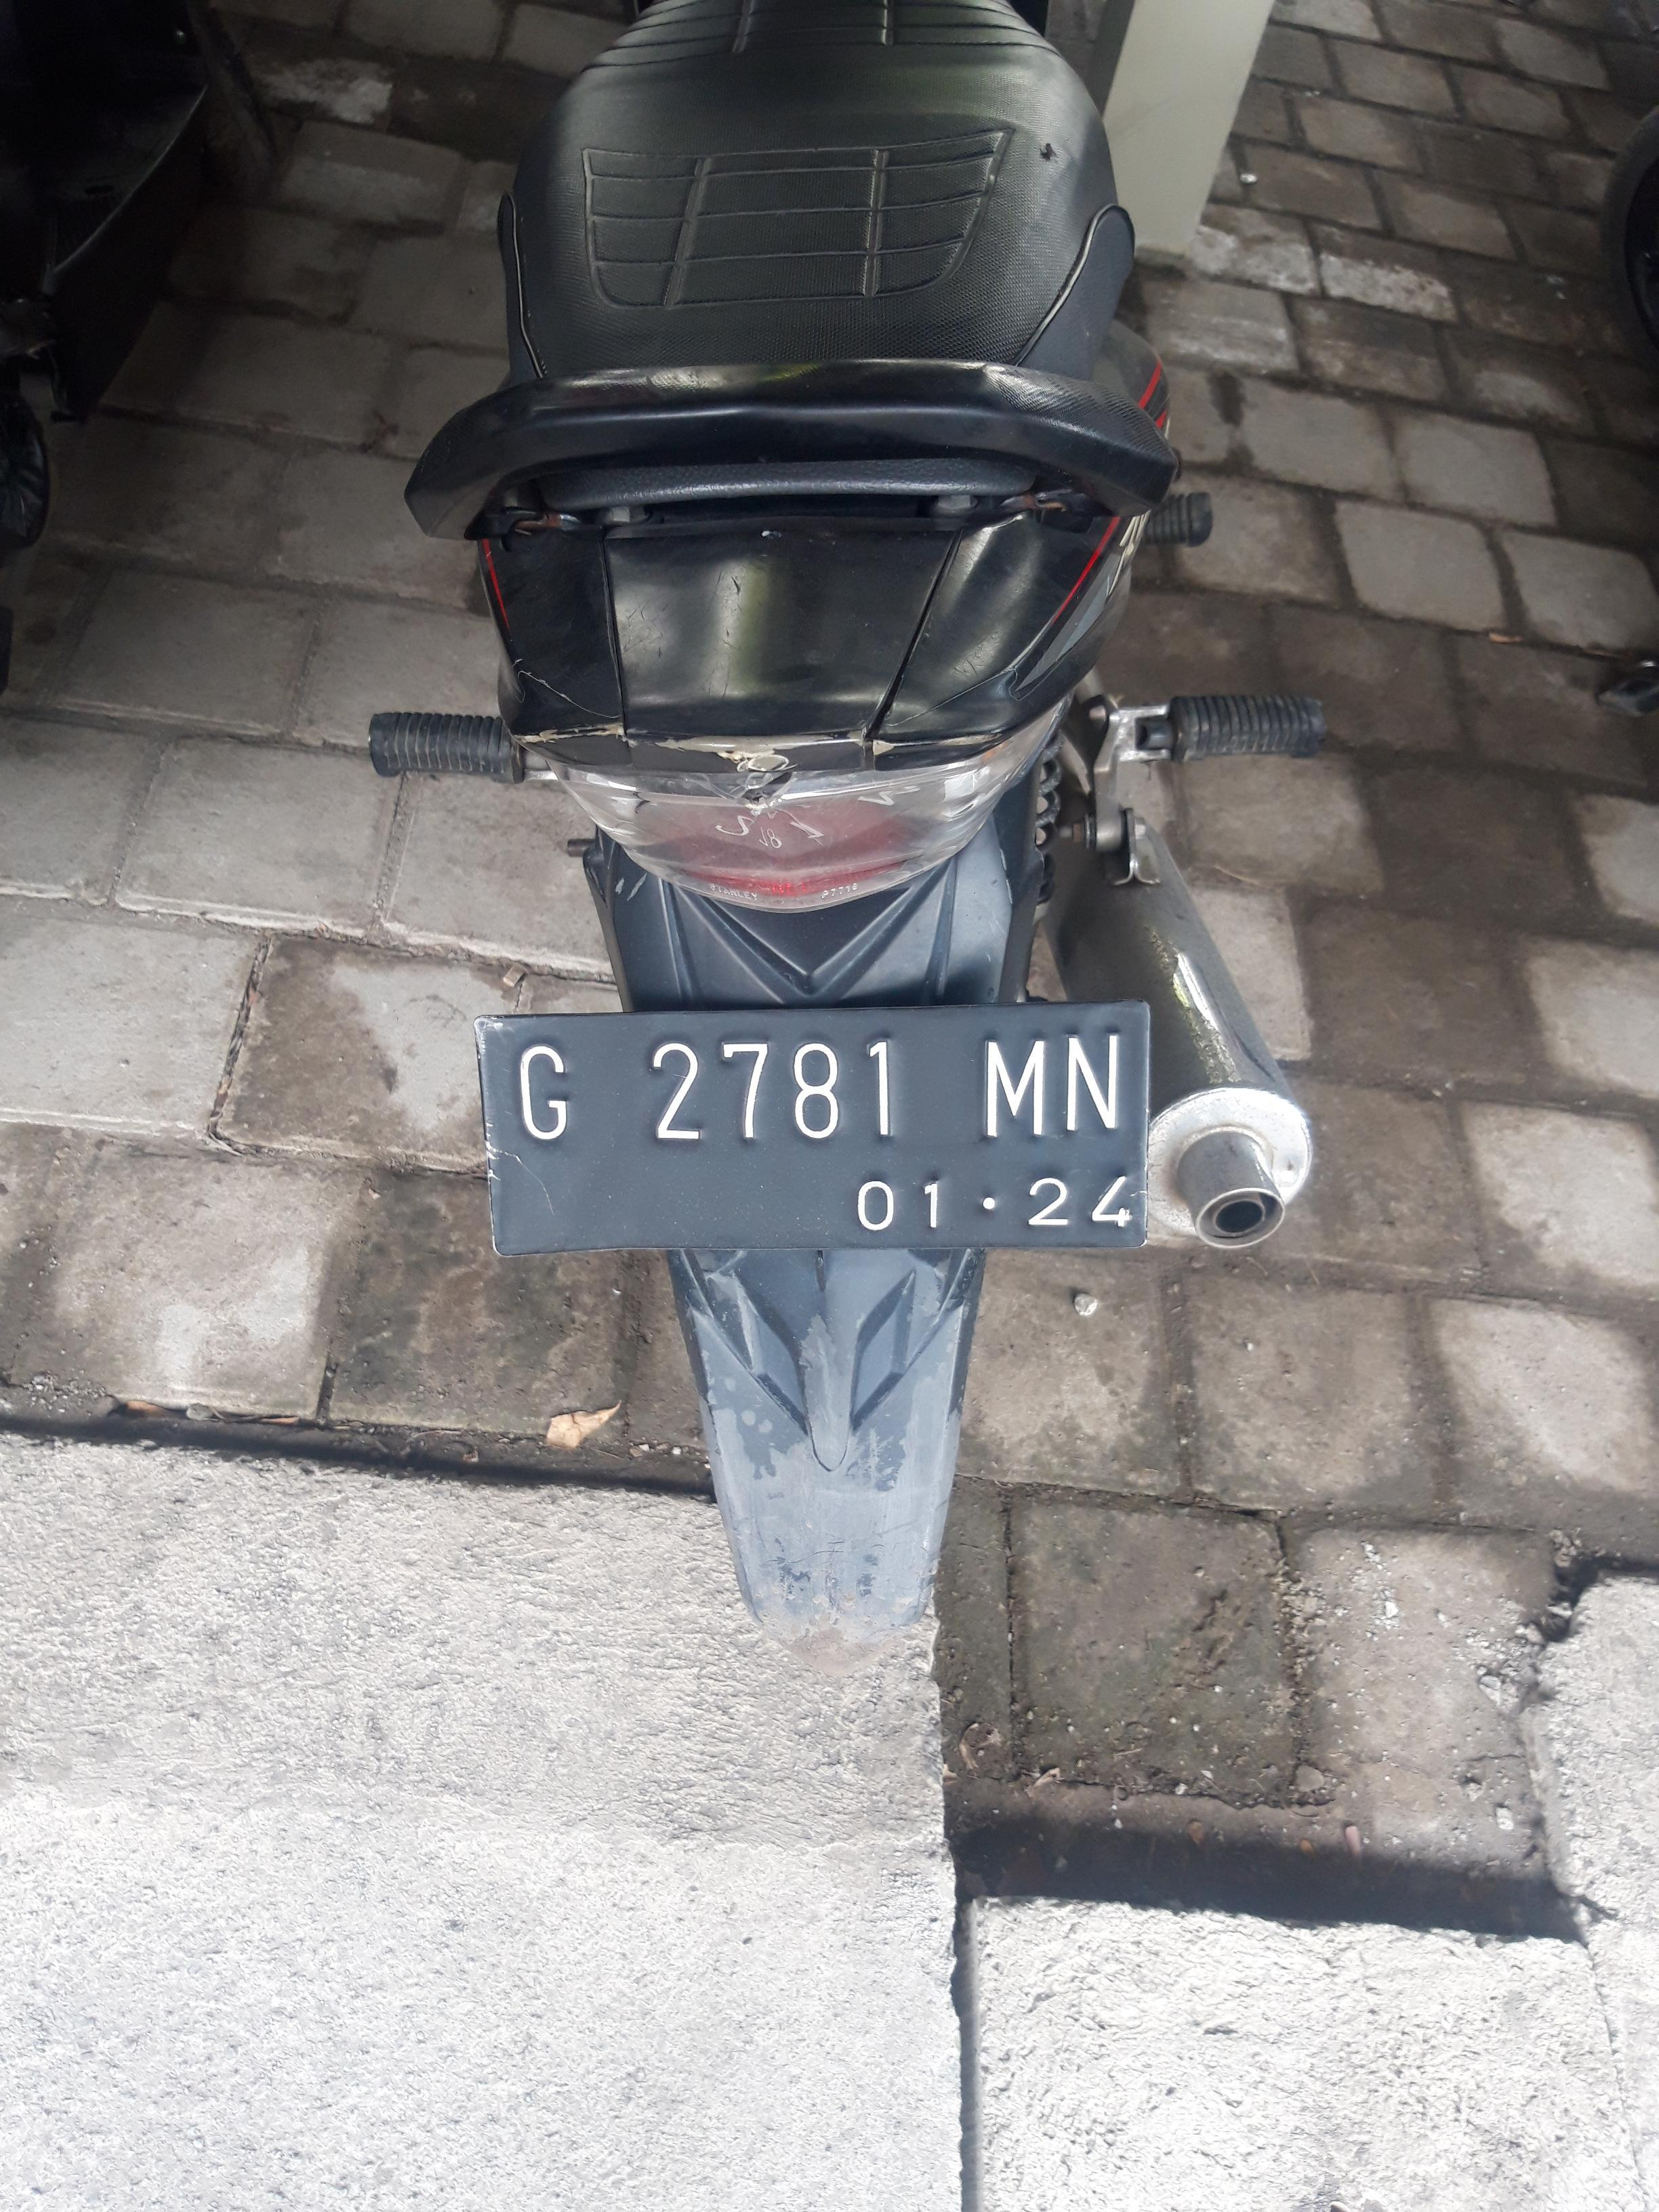clone-license-plate: (496, 1017, 1149, 1256)
